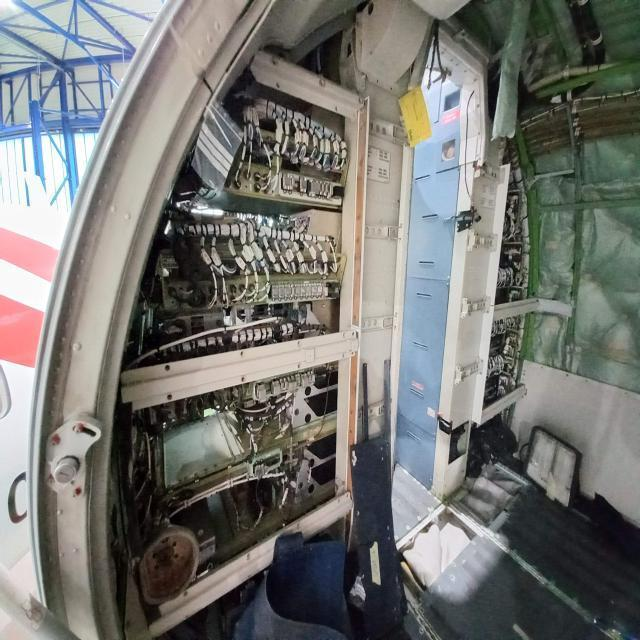Missing Fastener: (162, 363, 174, 372), (274, 80, 284, 90), (182, 588, 190, 600), (318, 78, 327, 88), (240, 373, 248, 383), (272, 57, 280, 67), (166, 392, 174, 401), (239, 349, 247, 358), (334, 104, 342, 112), (296, 522, 304, 530), (341, 352, 347, 360), (296, 338, 302, 346), (358, 96, 364, 104), (246, 552, 252, 560), (298, 362, 302, 371), (342, 332, 346, 340), (346, 492, 350, 500), (338, 496, 342, 504), (352, 331, 356, 337), (351, 350, 354, 356)
